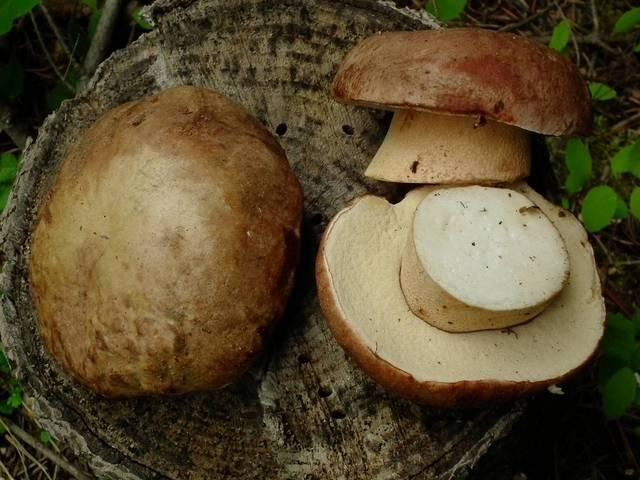Edible Mushroom: (314, 26, 606, 407), (26, 83, 305, 399), (330, 26, 593, 185)
